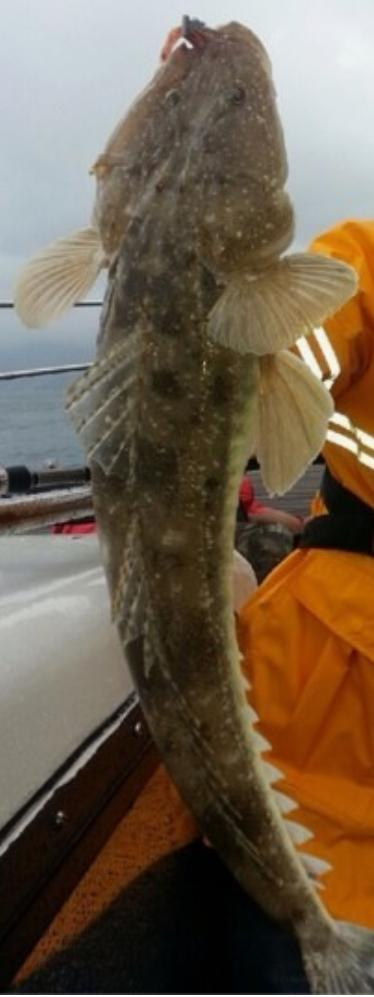fish: (13, 17, 373, 996)
